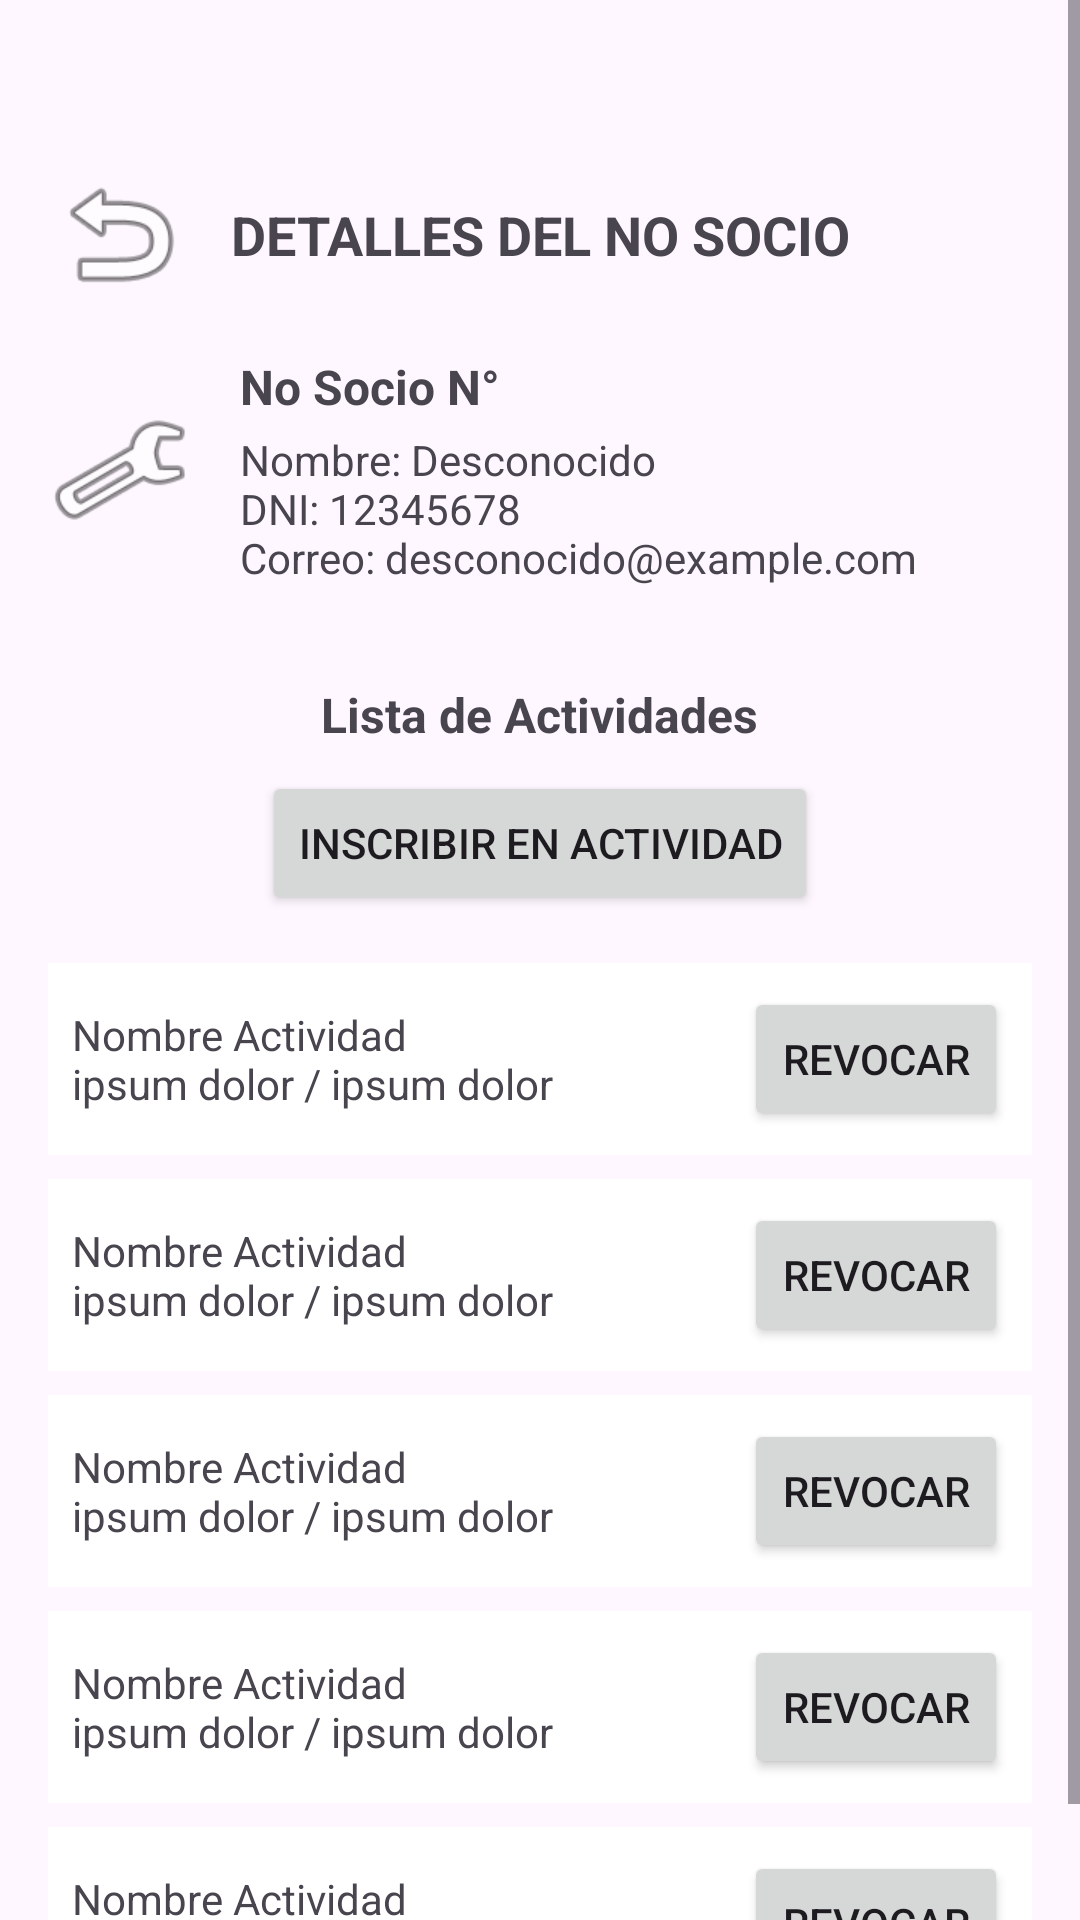

Where icons sit on this 1080 × 1920 app screen, as (x1, y1, x2, y2):
Volver: (70, 188, 174, 282)
